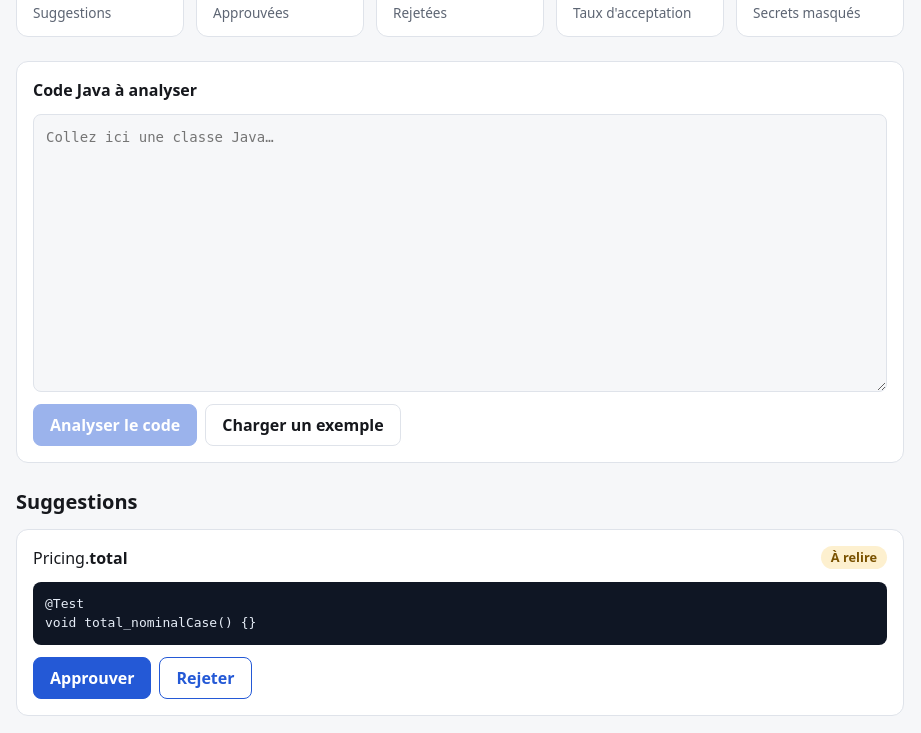
Test: App › rejette une suggestion
The image size is (921, 733).
(page scrolled)
Click the button "Rejeter": point(206, 678) 160,657 -> 252,699
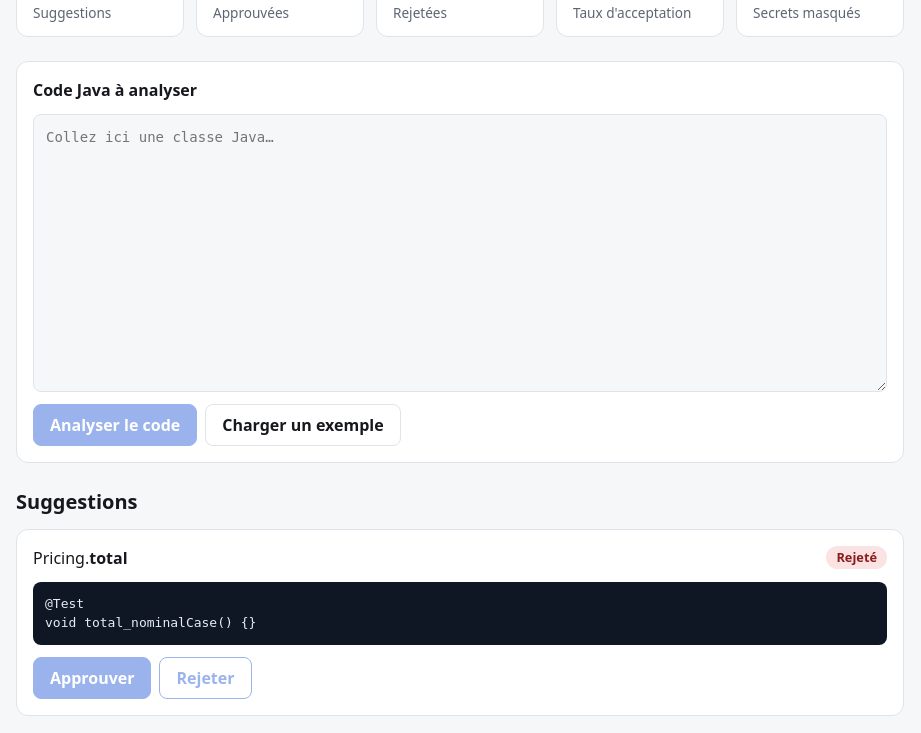
Now the text "Rejeté" is shown, box 826,546 -> 887,569
